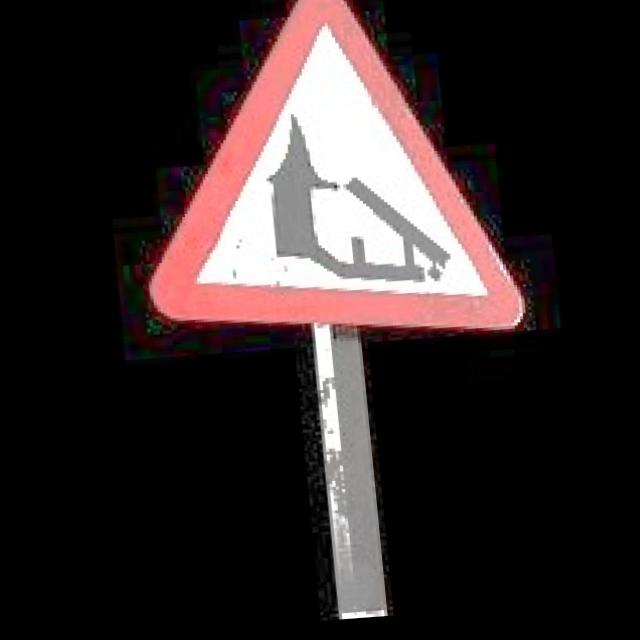BARRIER_AHEAD: (116, 0, 530, 384)
